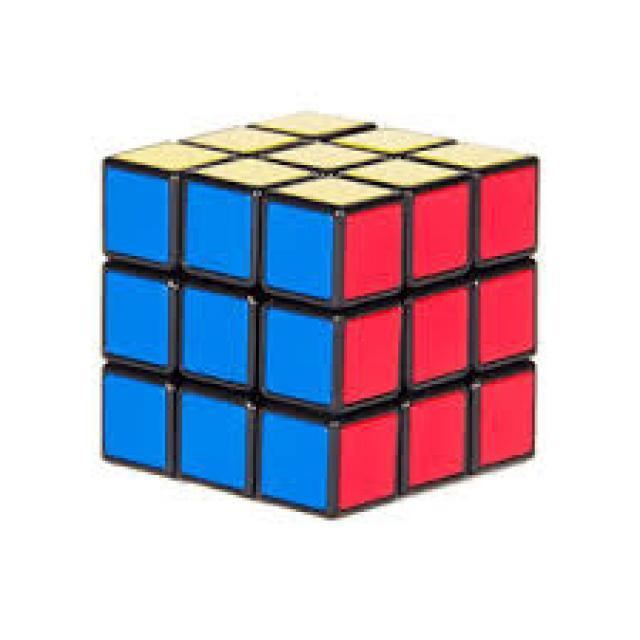Rub: (99, 109, 541, 517)
